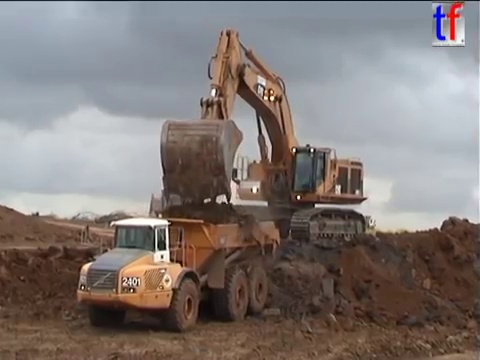excavator: (157, 25, 371, 251)
motor grader: (343, 213, 379, 242)
truck: (74, 214, 282, 334), (147, 187, 216, 228)
